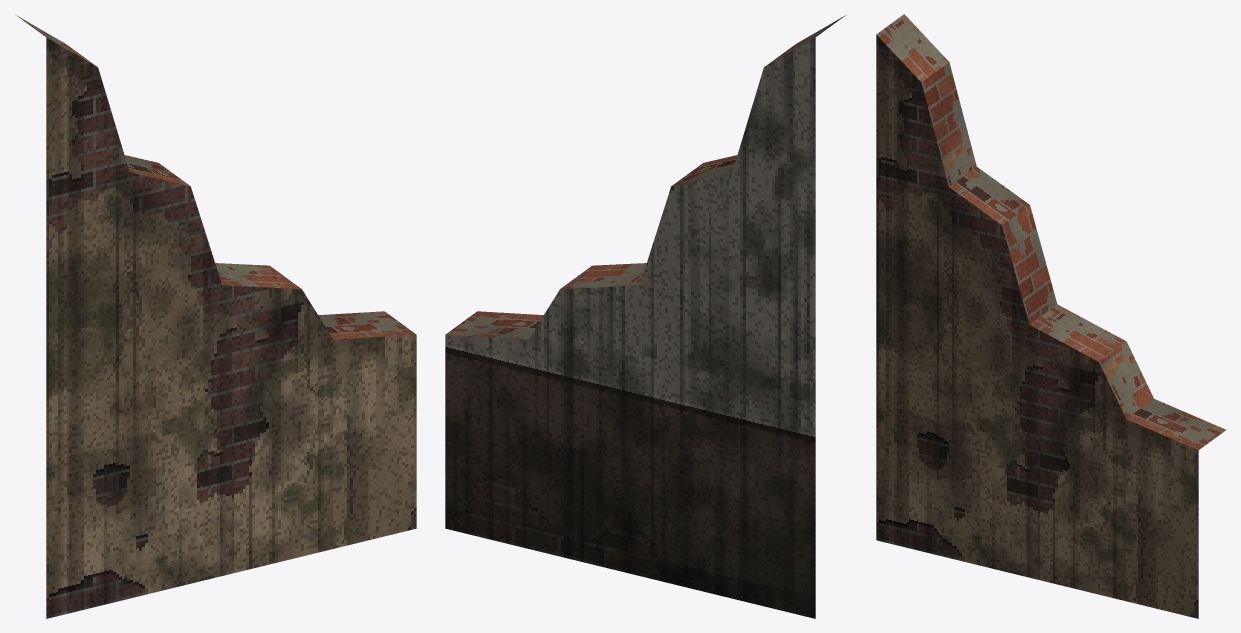
File: ext_wall_ruin_hl.gltf
3 views of the same model, side by side, from view 1: azimuth 30°, elevation 25°; view 2: azimuth 150°, elevation 25°; view 3: azimuth 330°, elevation 25° (orthographic). The views are drawn at different scales.
Visible parts, largest first — view 1: ext_wall_ruin_hl-col; view 2: ext_wall_ruin_hl-col; view 3: ext_wall_ruin_hl-col.
Boxes of the visible parts, x1,y1,x2,y2 form: ext_wall_ruin_hl-col: (16,15,416,618); ext_wall_ruin_hl-col: (445,15,845,618); ext_wall_ruin_hl-col: (876,14,1225,618).
Bounding box in the file's own units: 2 × 3 × 0.3.
3 materials, 3 textured.
